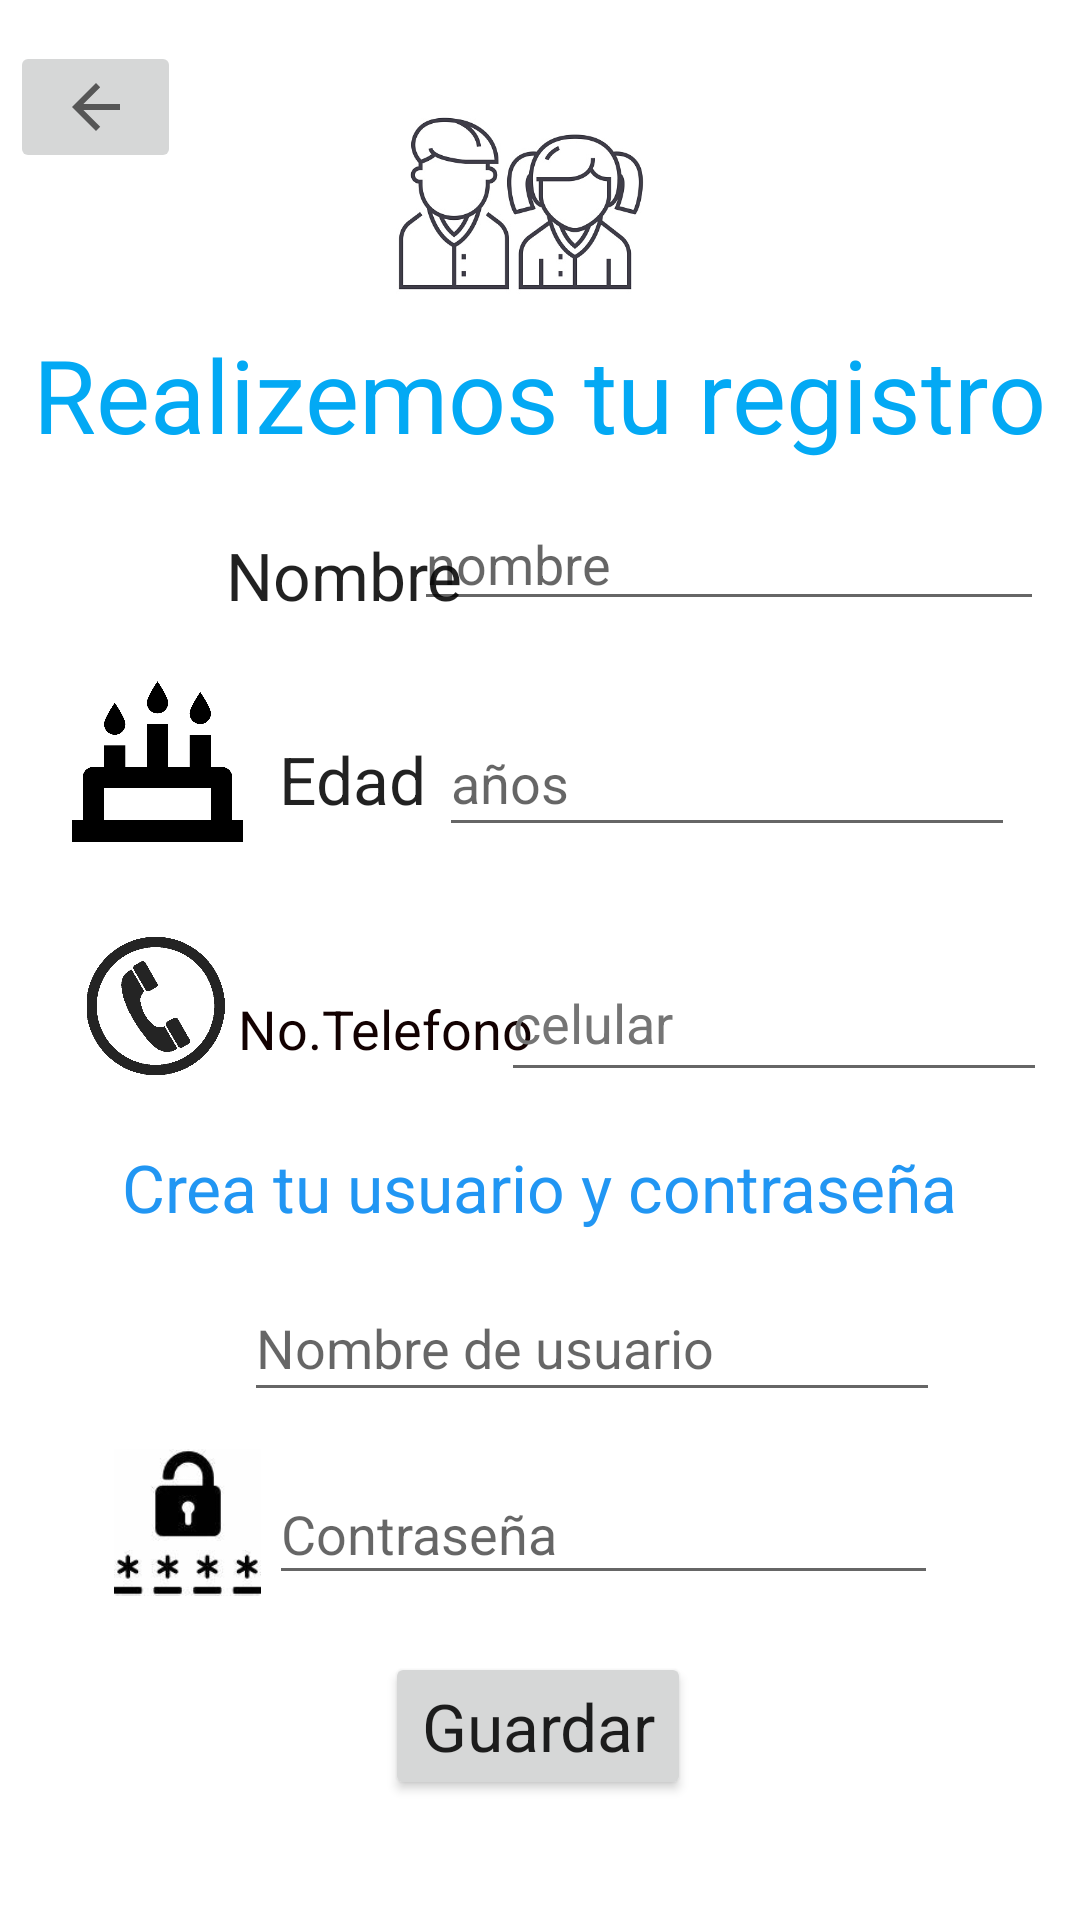

Screen size 1080*1920. Icon name, then its box in pixels as [x1,y1,x2,y2]:
alumno: [399,117,643,290]
contrasena: [114,1450,261,1596]
